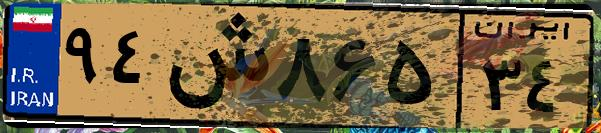3: (475, 38, 525, 113)
4: (525, 38, 570, 115), (110, 28, 158, 98)
5: (385, 28, 445, 110)
6: (330, 28, 385, 110)
8: (270, 28, 330, 110)
9: (57, 26, 110, 100)
ش: (158, 12, 270, 120)
